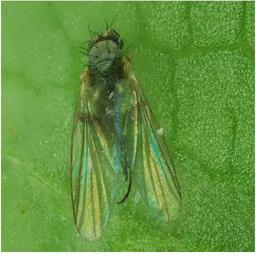liriomyza: (67, 19, 182, 242)
